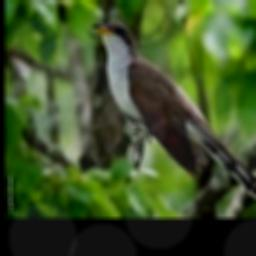Cuckoo: (92, 21, 256, 200)
